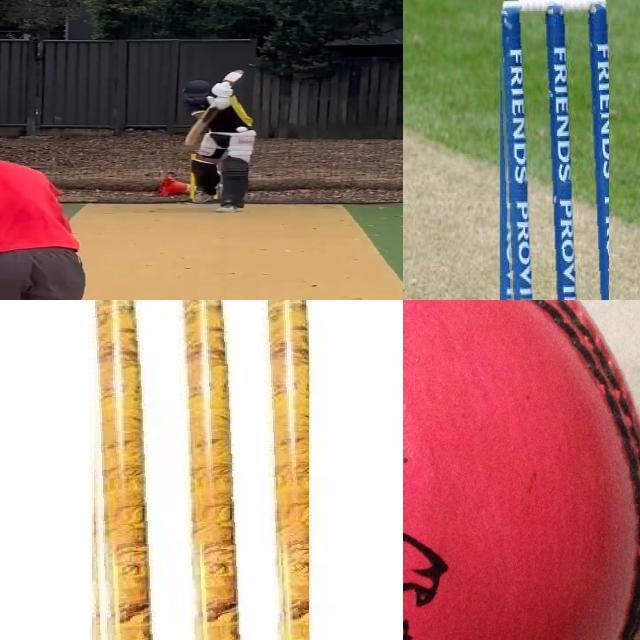Cricket ball: (403, 300, 640, 640), (235, 126, 248, 133)
Stumps: (85, 300, 308, 640), (497, 0, 608, 300)
